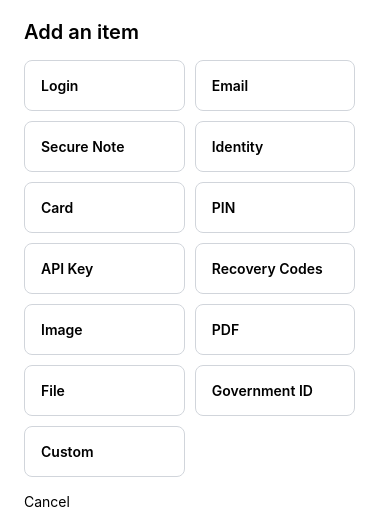
Test: NewItemScreen › refuses to upload without a file
Click the text "PDF": (225, 330) [212,321,239,338]
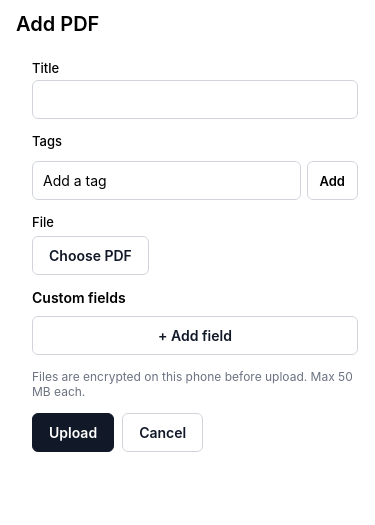
In the field named "Title": (195, 100) [32,80,358,119], type "Lease"
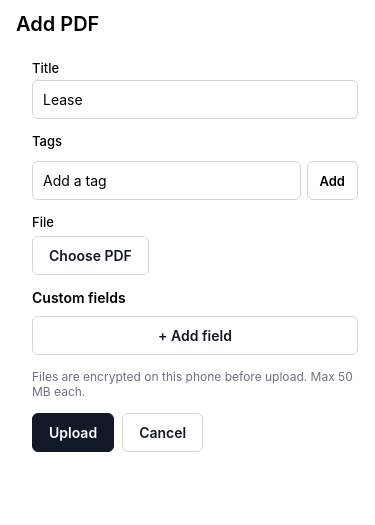
Click the text "Upload": (73, 432) [49,424,97,441]
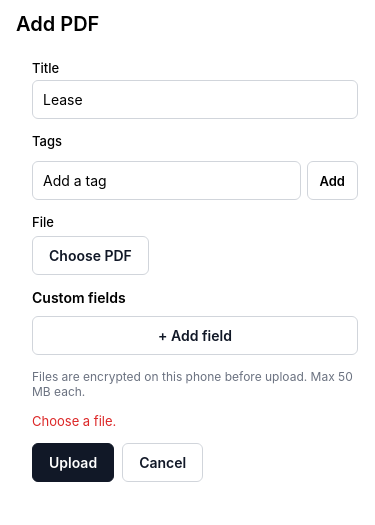
Expected: the text "Choose a file." is shown, [32,413,116,429]
